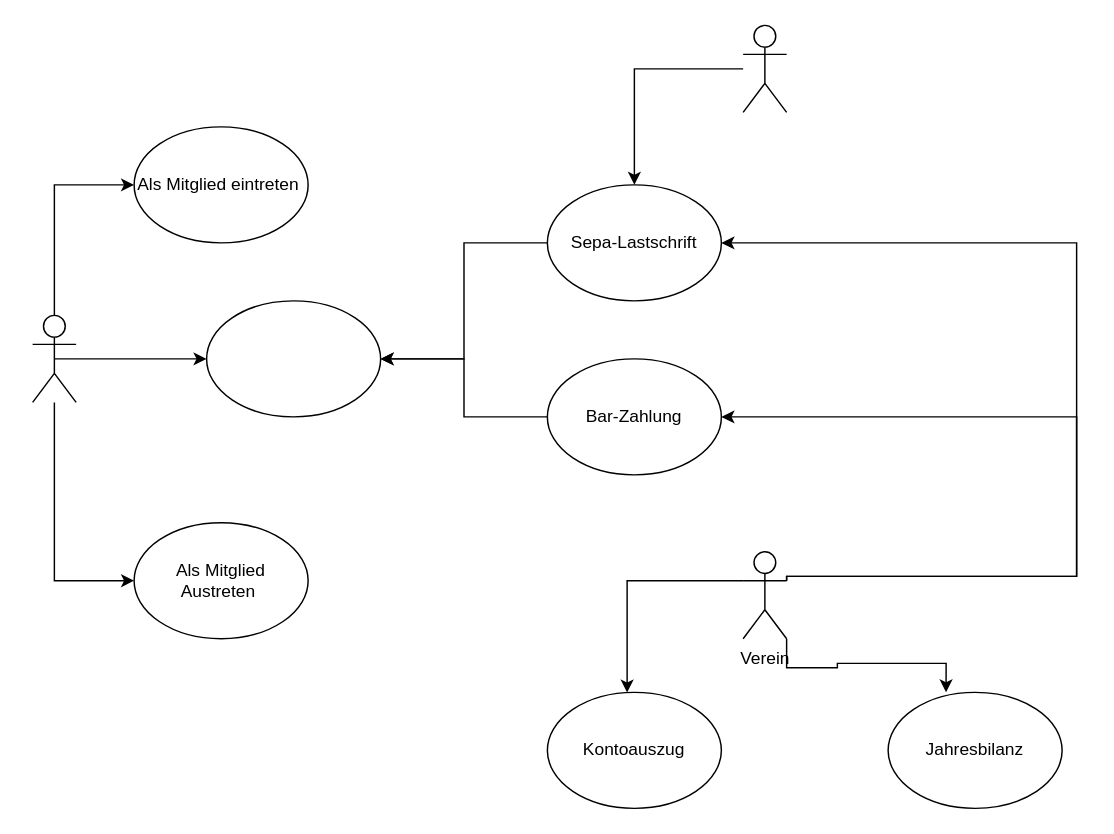
This 1114x834 diagram has some shape labels left out. Here are the shapes that lost their labels. From the top down, the centre of each, then its label:
pixel 764 68: Bank
pixel 53 358: Mitglied
pixel 293 358: Mitgliedschaftsbeitrag bezahlen
